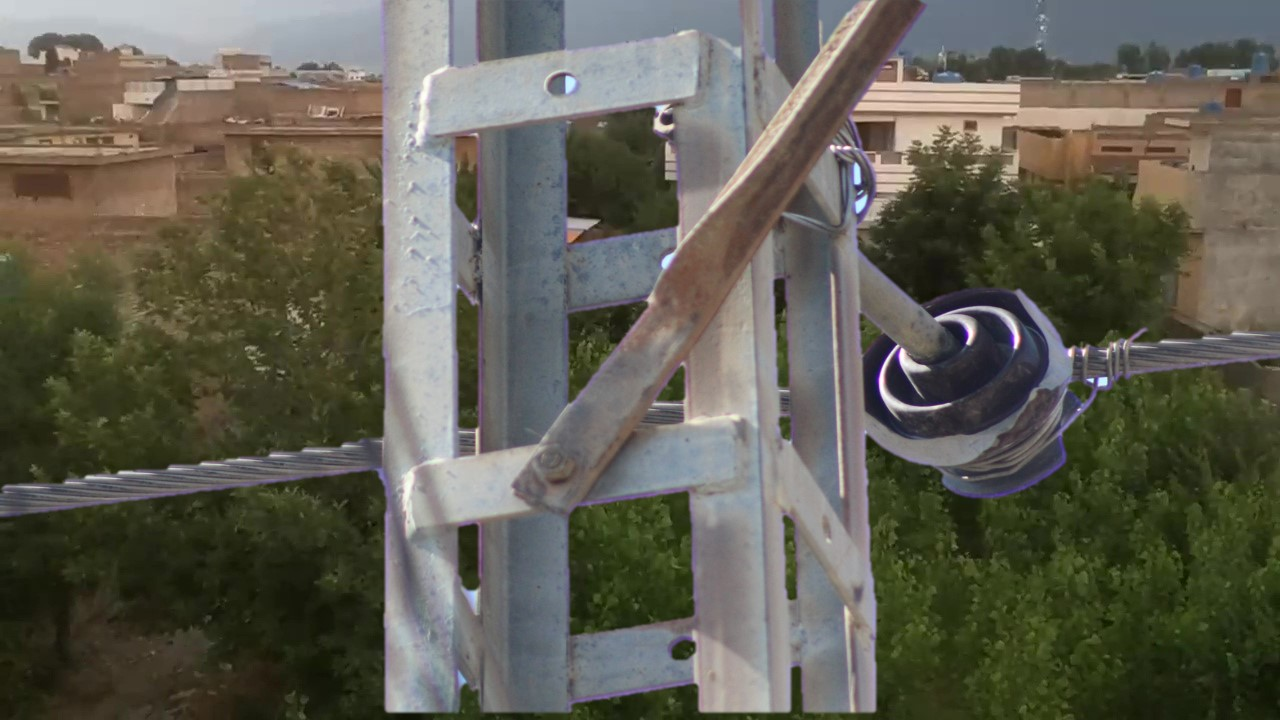defect_pin: (861, 270, 1095, 511)
